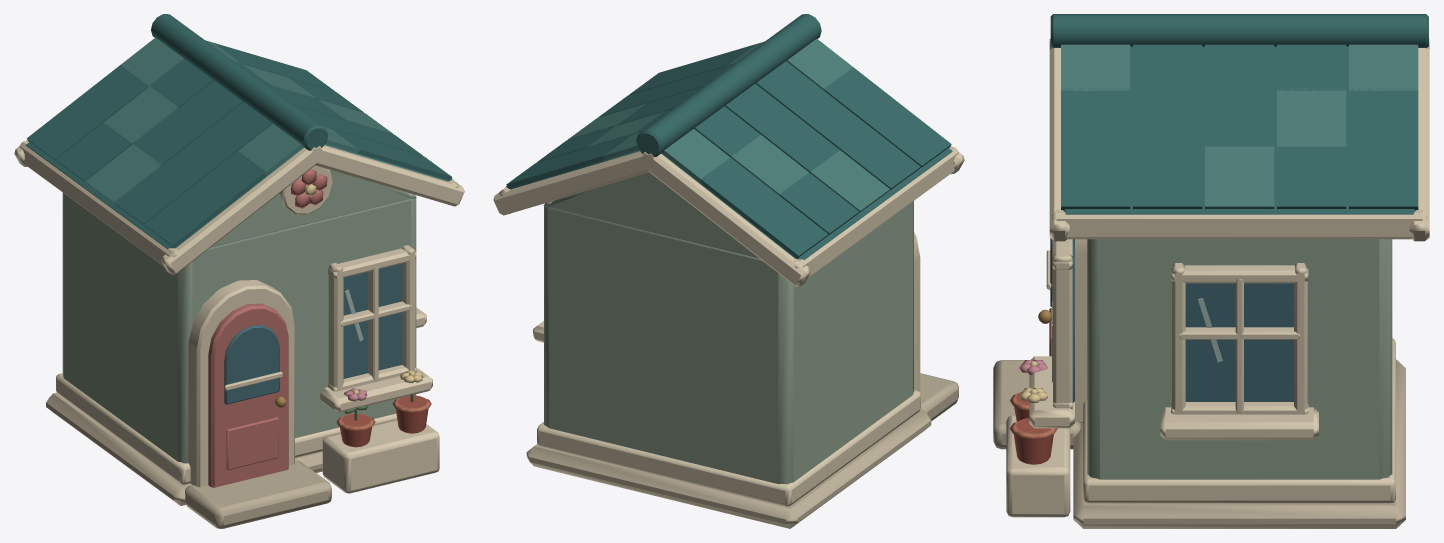
Rendered from florist_level_1.glb.
3 renders of one model, left to right at view 1: azimuth 30°, elevation 25°; view 2: azimuth 150°, elevation 25°; view 3: azimuth 270°, elevation 25°, orthographic. The views are drawn at different scales.
Visible parts, largest first — view 1: florist_level_1_runtime; view 2: florist_level_1_runtime; view 3: florist_level_1_runtime.
Part boxes in pixels (left/top/right/bottom): florist_level_1_runtime: left=14, top=14, right=464, bottom=528; florist_level_1_runtime: left=493, top=14, right=964, bottom=528; florist_level_1_runtime: left=993, top=14, right=1429, bottom=528.
Size of the model in its own units: 2.84 by 3.18 by 2.86.
